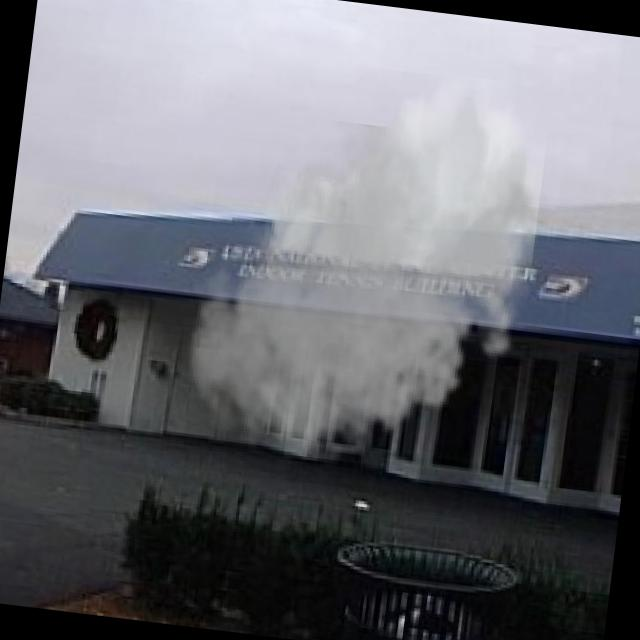Smoke: (168, 46, 567, 499)
